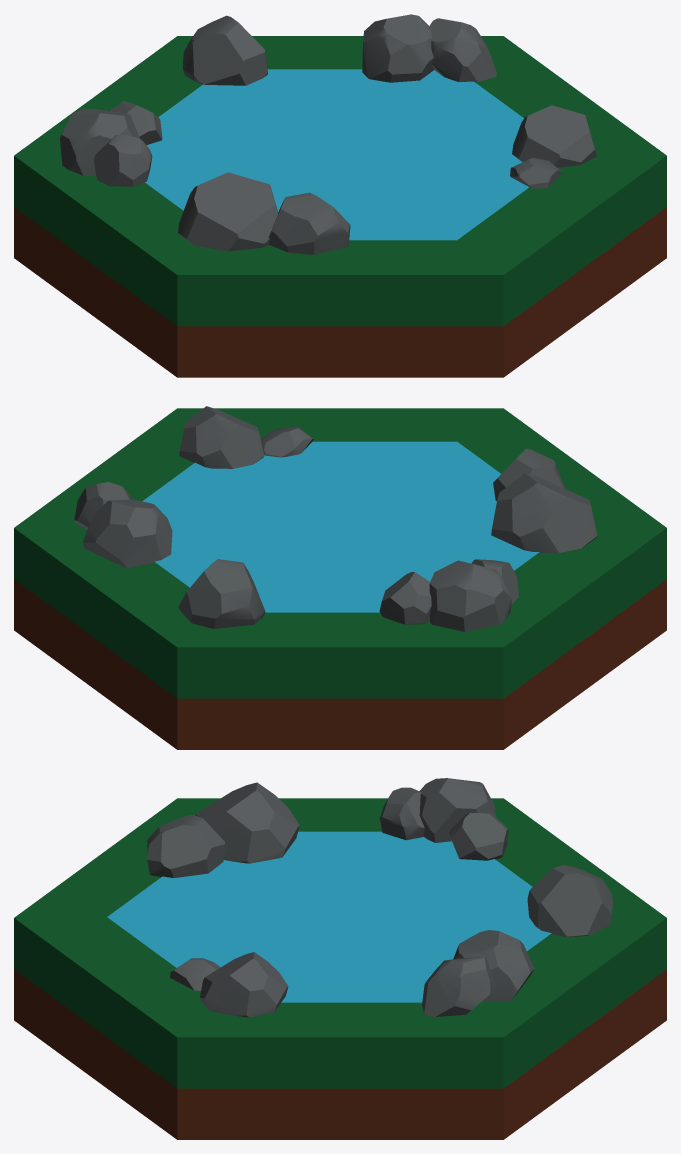
Rendered from SM_Pond.FBX.
3 renders of one model, top to bottom at view 1: azimuth 30°, elevation 25°; view 2: azimuth 150°, elevation 25°; view 3: azimuth 270°, elevation 25°, orthographic.
Visible parts, largest first — view 1: SM_Pond; view 2: SM_Pond; view 3: SM_Pond.
Boxes of the visible parts, left/top/right/bottom form: SM_Pond: left=14, top=14, right=666, bottom=377; SM_Pond: left=14, top=406, right=666, bottom=749; SM_Pond: left=14, top=778, right=666, bottom=1139.
Bounding box in the file's own units: 100 × 115 × 30.14.
